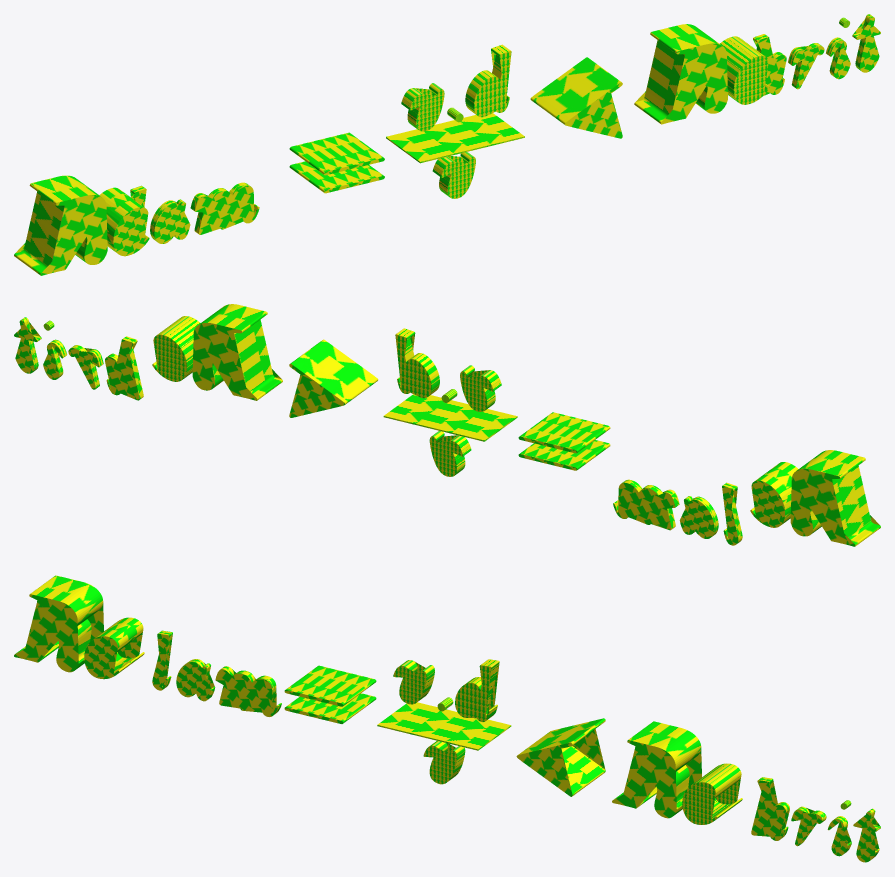
File: lamproud.obj
The picture shows the model from 3 angles, top to bottom: view 1: azimuth 30°, elevation 25°; view 2: azimuth 150°, elevation 25°; view 3: azimuth 330°, elevation 25°; orthographic projection. The views are drawn at different scales.
Parts seen in each view (by area): view 1: group2 polySurface57, group2 polySurface50, group2 polySurface49, group2 pCube3, group2 polySurface43, group2 polySurface44, polySurface40 group2, group2 polySurface58, group2 polySurface48, group2 polySurface45, group2 polySurface46, group2 polySurface56 (+5 smaller); view 2: group2 polySurface50, group2 polySurface57, group2 polySurface49, group2 pCube3, group2 polySurface43, group2 polySurface44, polySurface40 group2, group2 polySurface58, group2 polySurface48, group2 polySurface51, group2 polySurface45, group2 polySurface46 (+6 smaller); view 3: group2 polySurface57, group2 polySurface50, group2 polySurface49, group2 pCube3, group2 polySurface58, polySurface40 group2, group2 polySurface43, group2 polySurface44, group2 polySurface48, group2 polySurface51, group2 polySurface45, group2 polySurface46 (+6 smaller).
Part boxes in pixels (x1=…): group2 polySurface57: x1=14, y1=175, x2=107, y2=275; group2 polySurface50: x1=634, y1=24, x2=727, y2=124; group2 polySurface49: x1=530, y1=57, x2=622, y2=138; group2 pCube3: x1=386, y1=113, x2=524, y2=163; group2 polySurface43: x1=190, y1=182, x2=259, y2=234; group2 polySurface44: x1=289, y1=132, x2=384, y2=175; polySurface40 group2: x1=99, y1=187, x2=149, y2=256; group2 polySurface58: x1=720, y1=36, x2=769, y2=104; group2 polySurface48: x1=465, y1=44, x2=511, y2=117; group2 polySurface45: x1=289, y1=161, x2=384, y2=193; group2 polySurface46: x1=401, y1=83, x2=444, y2=131; group2 polySurface56: x1=432, y1=152, x2=475, y2=198; group2 polySurface50: x1=192, y1=304, x2=282, y2=400; group2 polySurface57: x1=790, y1=450, x2=880, y2=546; group2 polySurface49: x1=289, y1=339, x2=378, y2=417; group2 pCube3: x1=383, y1=394, x2=517, y2=441; group2 polySurface43: x1=613, y1=479, x2=679, y2=530; group2 polySurface44: x1=518, y1=412, x2=610, y2=453; polySurface40 group2: x1=750, y1=462, x2=798, y2=527; group2 polySurface58: x1=152, y1=316, x2=200, y2=381; group2 polySurface48: x1=395, y1=328, x2=439, y2=398; group2 polySurface51: x1=105, y1=336, x2=143, y2=400; group2 polySurface45: x1=518, y1=440, x2=610, y2=470; group2 polySurface46: x1=460, y1=365, x2=501, y2=411; group2 polySurface57: x1=14, y1=575, x2=103, y2=672; group2 polySurface50: x1=612, y1=721, x2=701, y2=818; group2 polySurface49: x1=516, y1=718, x2=605, y2=796; group2 pCube3: x1=377, y1=702, x2=511, y2=750; group2 polySurface58: x1=682, y1=763, x2=742, y2=824; polySurface40 group2: x1=84, y1=617, x2=144, y2=679; group2 polySurface43: x1=215, y1=666, x2=281, y2=716; group2 polySurface44: x1=284, y1=665, x2=376, y2=706; group2 polySurface48: x1=455, y1=659, x2=499, y2=721; group2 polySurface51: x1=751, y1=777, x2=789, y2=840; group2 polySurface45: x1=284, y1=693, x2=376, y2=723; group2 polySurface46: x1=393, y1=660, x2=434, y2=704.
Size of the model in its own units: 563 by 83.53 by 38.65.
Materials: 1 (1 with a texture image).
